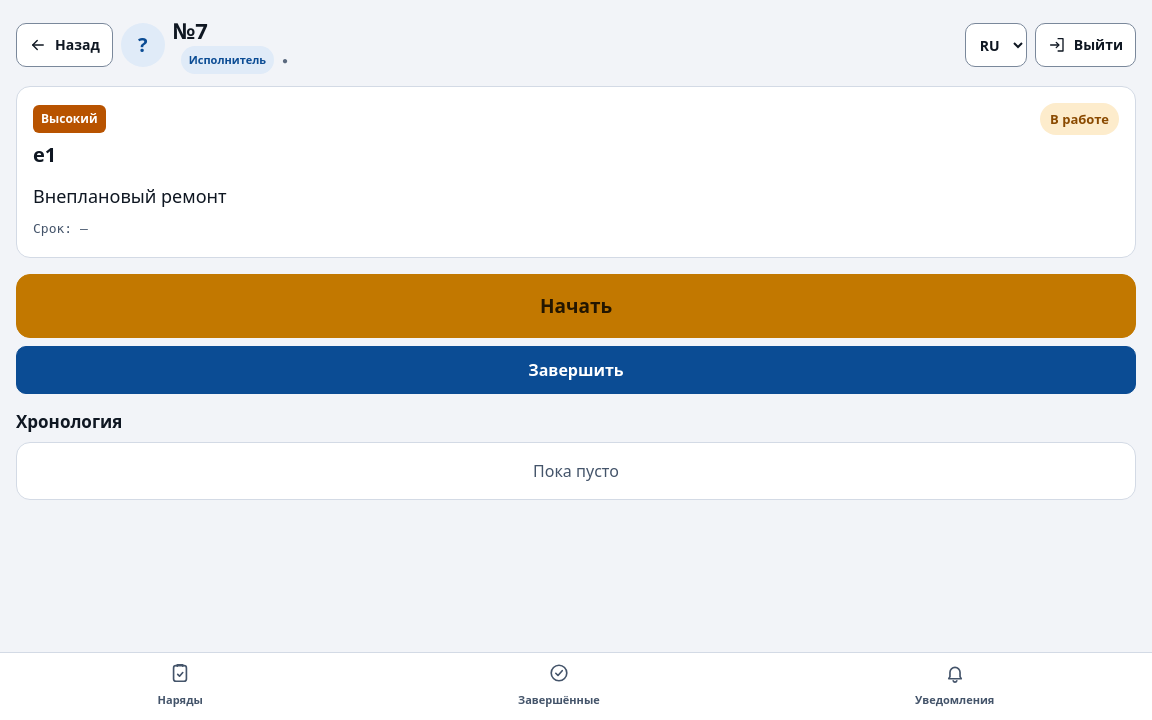
it: WorkerOrder offline › queues action when offline and shows banner
Step 1. Click the button "Начать" → [576, 306], box [16,274,1136,338]
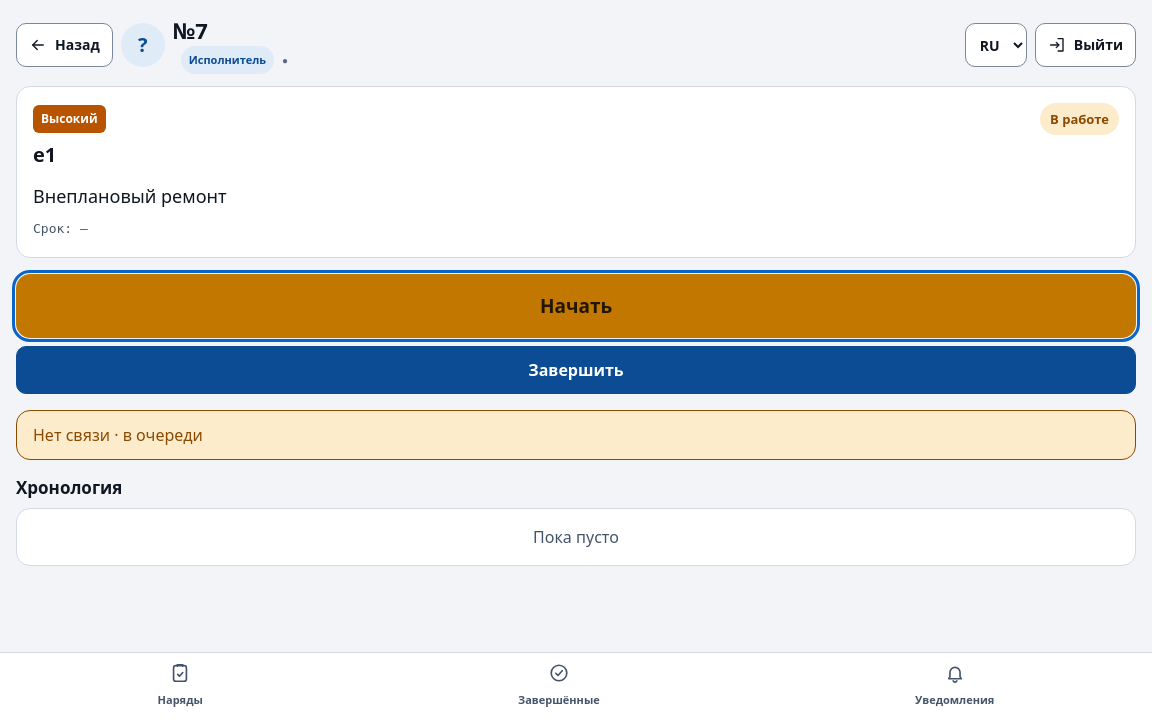
Expected: the text "Нет связи · в очереди" is shown, [16,410,1136,460]
